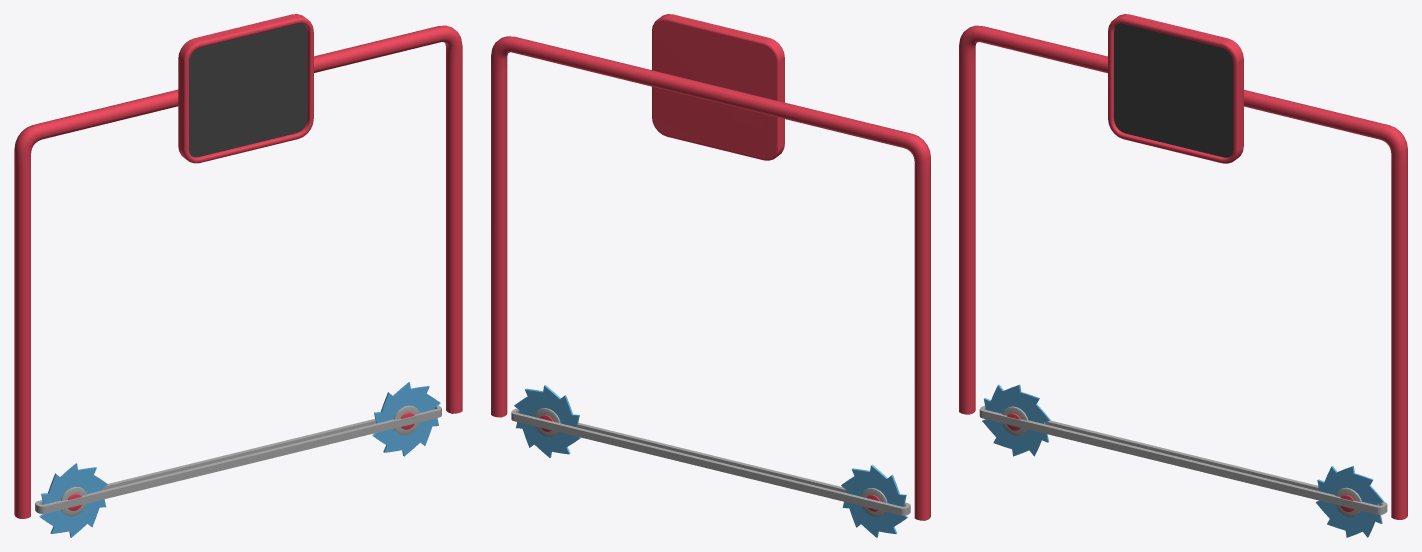
Rendered from OBS_Saw.fbx.
3 renders of one model, left to right at view 1: azimuth 30°, elevation 25°; view 2: azimuth 150°, elevation 25°; view 3: azimuth 330°, elevation 25°, orthographic. The views are drawn at different scales.
Visible parts, largest first — view 1: OBS_Saw_Screen, OBS_Saw_Frame_Vertical_R, OBS_Saw_Frame_Vertical_L, OBS_Saw_Rail, OBS_Saw_Frame_Horizonal, OBS_Saw_Frame, OBS_Saw_R, OBS_Saw_L, OBS_Saw_Frame_Corner_R, OBS_Saw_Frame_Corner_L; view 2: OBS_Saw_Frame, OBS_Saw_Frame_Horizonal, OBS_Saw_Frame_Vertical_R, OBS_Saw_Frame_Vertical_L, OBS_Saw_Rail, OBS_Saw_R, OBS_Saw_L, OBS_Saw_Frame_Corner_R, OBS_Saw_Frame_Corner_L; view 3: OBS_Saw_Screen, OBS_Saw_Frame_Vertical_R, OBS_Saw_Frame_Vertical_L, OBS_Saw_Rail, OBS_Saw_Frame_Horizonal, OBS_Saw_Frame, OBS_Saw_R, OBS_Saw_L, OBS_Saw_Frame_Corner_L, OBS_Saw_Frame_Corner_R.
Boxes of the visible parts, left/top/right/bottom form: OBS_Saw_Screen: left=189, top=23, right=307, bottom=157; OBS_Saw_Frame_Vertical_R: left=14, top=164, right=30, bottom=518; OBS_Saw_Frame_Vertical_L: left=446, top=60, right=462, bottom=413; OBS_Saw_Rail: left=35, top=405, right=441, bottom=513; OBS_Saw_Frame_Horizonal: left=46, top=29, right=432, bottom=136; OBS_Saw_Frame: left=178, top=14, right=313, bottom=163; OBS_Saw_R: left=39, top=463, right=107, bottom=537; OBS_Saw_L: left=372, top=382, right=440, bottom=456; OBS_Saw_Frame_Corner_R: left=14, top=122, right=52, bottom=168; OBS_Saw_Frame_Corner_L: left=426, top=25, right=462, bottom=63; OBS_Saw_Frame: left=652, top=14, right=784, bottom=160; OBS_Saw_Frame_Horizonal: left=520, top=39, right=899, bottom=145; OBS_Saw_Frame_Vertical_R: left=914, top=173, right=930, bottom=520; OBS_Saw_Frame_Vertical_L: left=491, top=70, right=507, bottom=417; OBS_Saw_Rail: left=511, top=408, right=910, bottom=515; OBS_Saw_R: left=841, top=464, right=908, bottom=537; OBS_Saw_L: left=514, top=385, right=580, bottom=457; OBS_Saw_Frame_Corner_R: left=893, top=131, right=930, bottom=176; OBS_Saw_Frame_Corner_L: left=491, top=36, right=525, bottom=73; OBS_Saw_Screen: left=1114, top=23, right=1233, bottom=157; OBS_Saw_Frame_Vertical_R: left=959, top=60, right=975, bottom=414; OBS_Saw_Frame_Vertical_L: left=1391, top=165, right=1407, bottom=519; OBS_Saw_Rail: left=979, top=405, right=1387, bottom=514; OBS_Saw_Frame_Horizonal: left=989, top=29, right=1376, bottom=137; OBS_Saw_Frame: left=1108, top=14, right=1243, bottom=163; OBS_Saw_R: left=982, top=384, right=1050, bottom=456; OBS_Saw_L: left=1315, top=466, right=1384, bottom=537; OBS_Saw_Frame_Corner_L: left=1370, top=122, right=1407, bottom=168; OBS_Saw_Frame_Corner_R: left=959, top=25, right=995, bottom=63.
Size of the model in its own units: 911 by 927 by 53.64.
